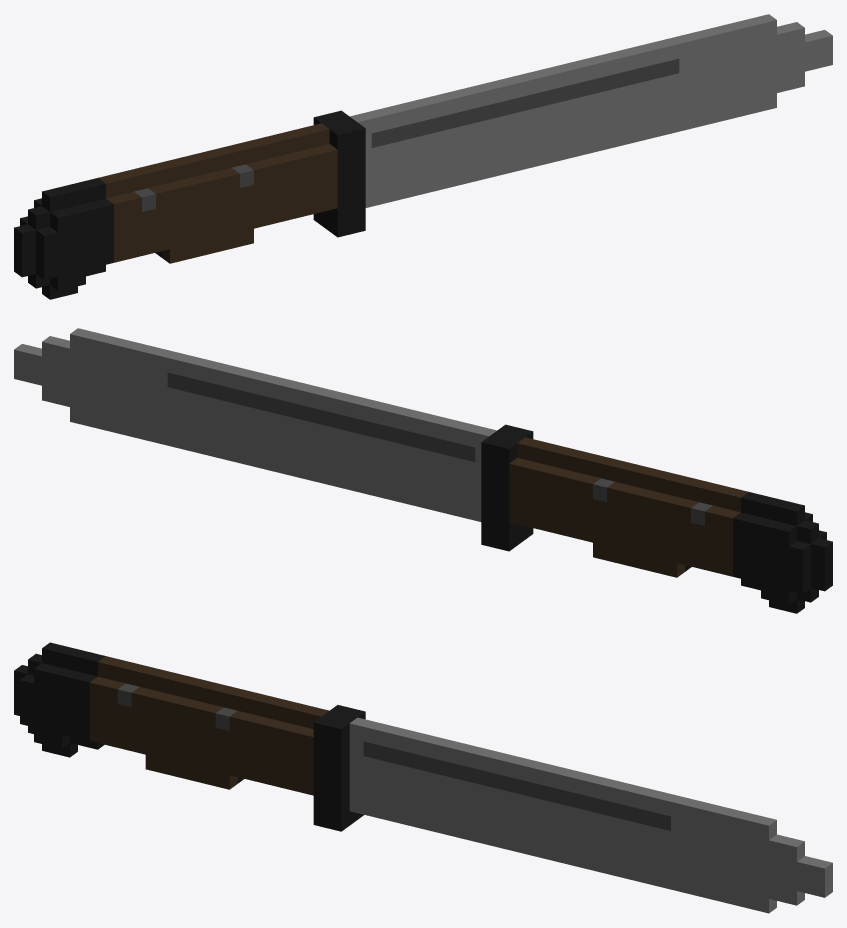
The model's file is Kar98k_bayonet.obj.
The picture shows the model from 3 angles, top to bottom: view 1: azimuth 30°, elevation 25°; view 2: azimuth 150°, elevation 25°; view 3: azimuth 330°, elevation 25°; orthographic projection.
Bounding box in the file's own units: 5.8 × 0.7 × 0.3.
Materials: 1 (1 with a texture image).
